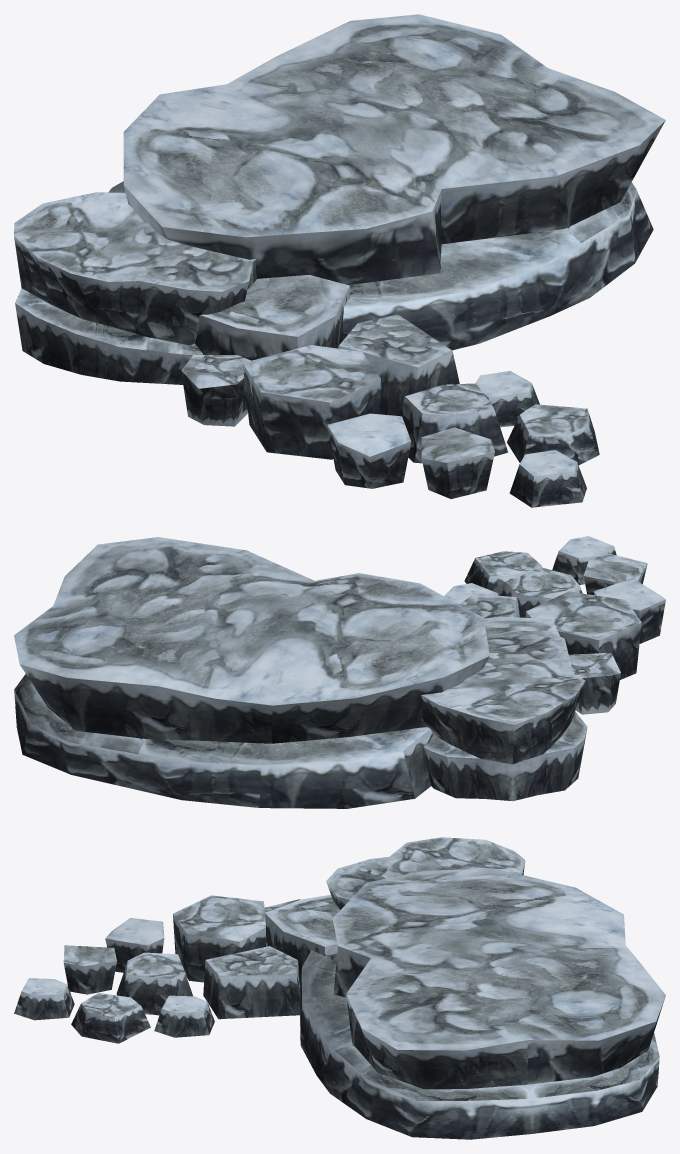
File: SC_bingfengyiji_16.FBX
The picture shows the model from 3 angles, top to bottom: view 1: azimuth 30°, elevation 25°; view 2: azimuth 150°, elevation 25°; view 3: azimuth 270°, elevation 25°; orthographic projection. The views are drawn at different scales.
Parts seen in each view (by area): view 1: SC_bingfengyiji_16; view 2: SC_bingfengyiji_16; view 3: SC_bingfengyiji_16.
Part boxes in pixels (x1,y1,x2,y2): SC_bingfengyiji_16: (14,14,665,507); SC_bingfengyiji_16: (14,536,665,808); SC_bingfengyiji_16: (14,837,665,1139).
Bounding box in the file's own units: 1188 × 256 × 1436.
